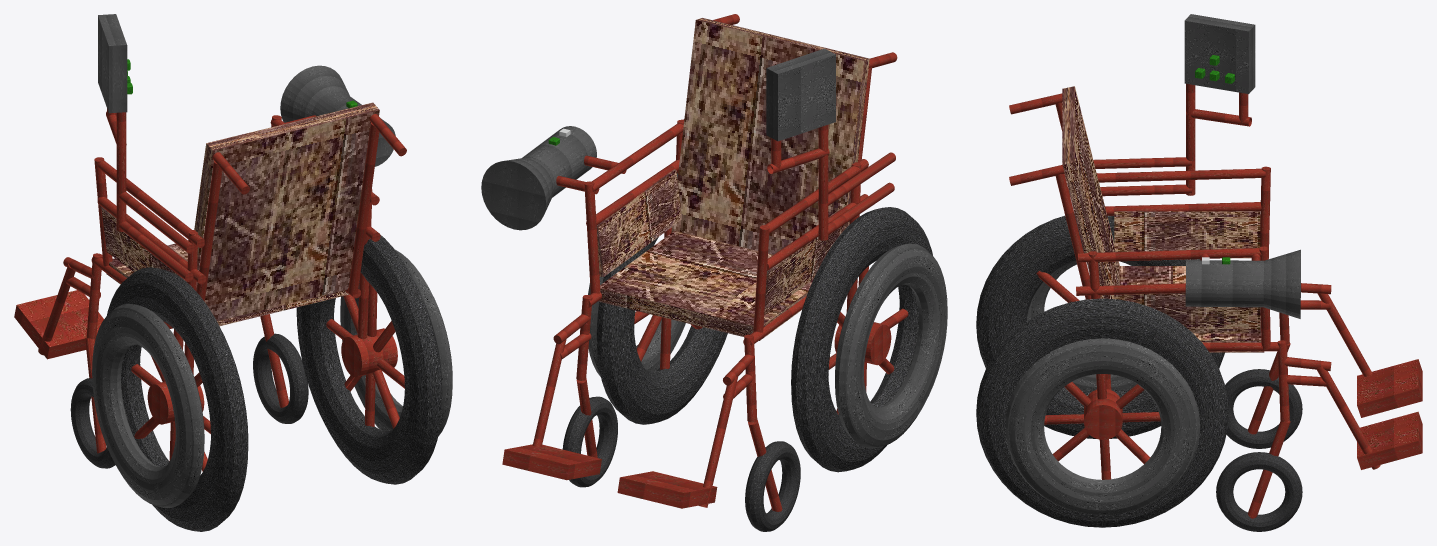
File: clean_кресло 3.glb
3 renders of one model, left to right at view 1: azimuth 30°, elevation 25°; view 2: azimuth 150°, elevation 25°; view 3: azimuth 270°, elevation 25°, orthographic. The views are drawn at different scales.
Parts seen in each view (by area): view 1: Куб.004; view 2: Куб.004; view 3: Куб.004.
Part boxes in pixels (bbox=[...]): Куб.004: bbox=[14, 14, 452, 531]; Куб.004: bbox=[481, 14, 947, 531]; Куб.004: bbox=[976, 14, 1422, 531].
Bounding box in the file's own units: 5.54 × 7.64 × 7.33.
20 materials, 20 textured.
